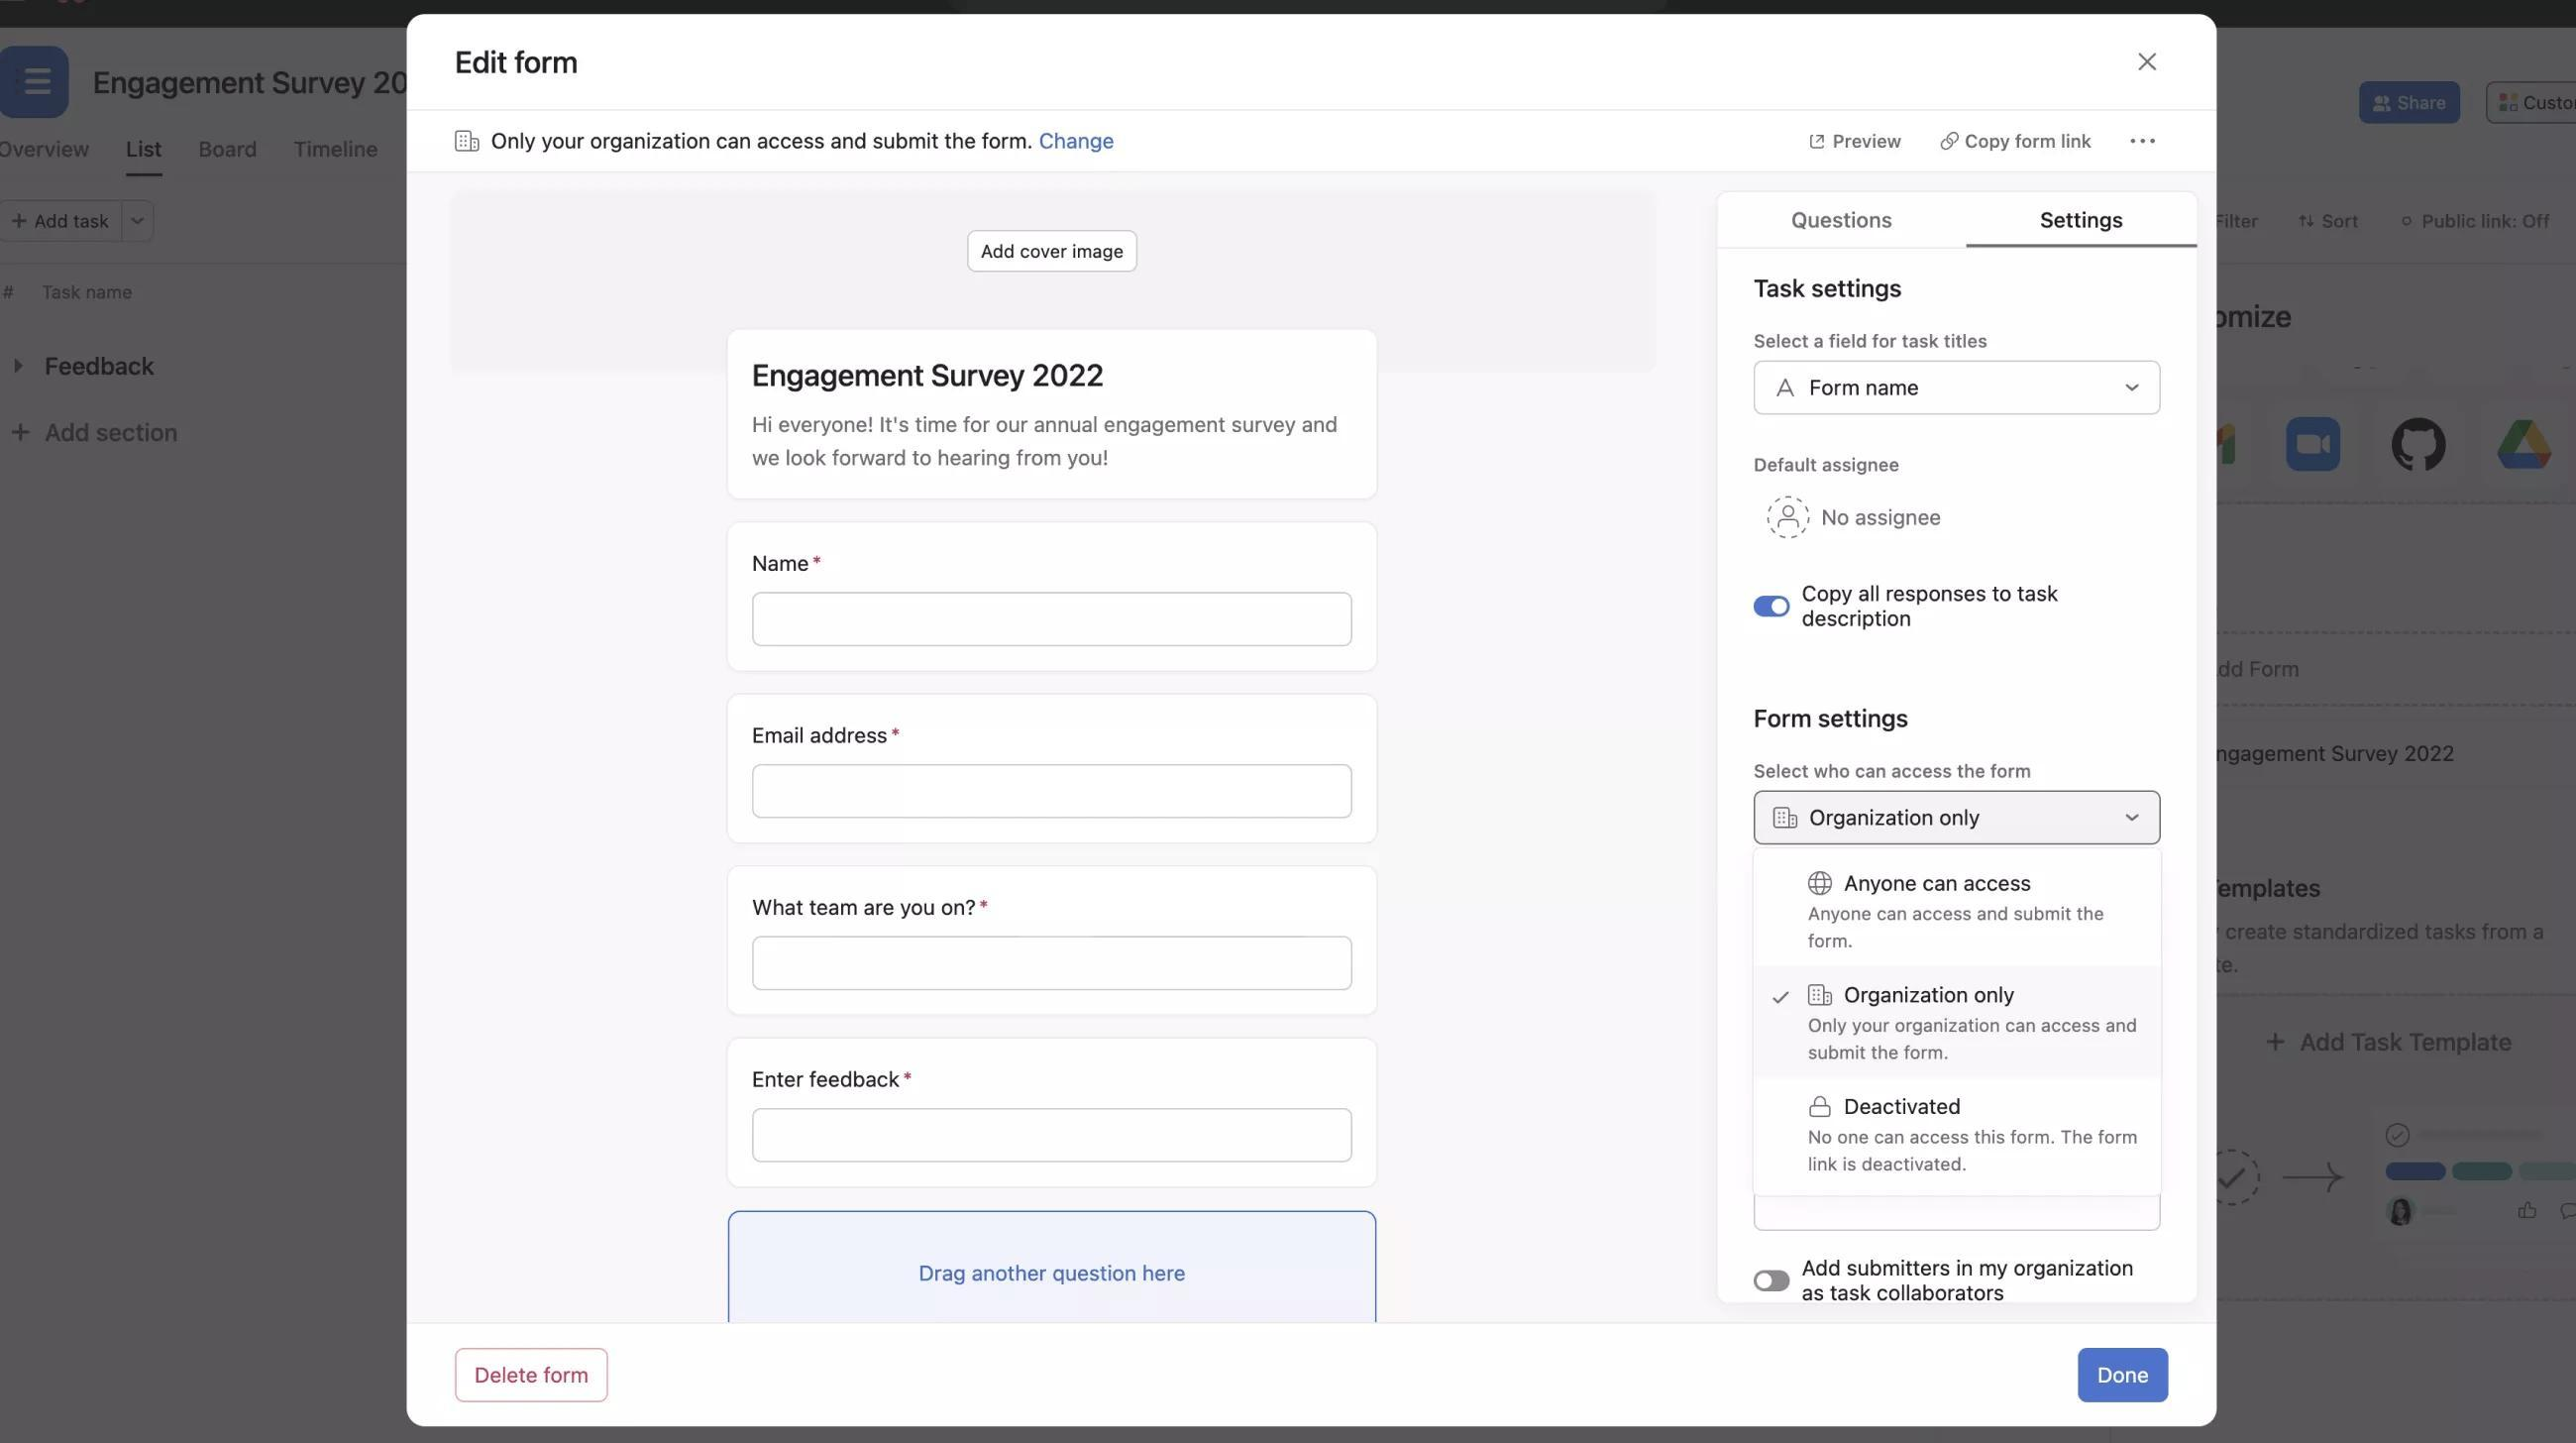button: (451, 1339, 614, 1409), (964, 228, 1143, 274), (2077, 1346, 2173, 1404), (2357, 80, 2466, 126)
dropdown: (1752, 358, 2166, 418), (1752, 790, 2166, 848)
icon: (1766, 490, 1812, 540), (1803, 866, 1836, 899), (1808, 1092, 1842, 1121), (1806, 981, 1838, 1007), (1767, 984, 1794, 1013)
input: (750, 933, 1355, 997), (748, 1105, 1357, 1167), (750, 761, 1357, 823), (750, 590, 1355, 650)
label: (748, 413, 1345, 471), (1799, 1250, 2143, 1305), (1808, 1018, 2139, 1064), (1805, 903, 2104, 953), (1808, 1130, 2139, 1174), (745, 358, 1116, 397), (1794, 579, 2063, 632), (748, 896, 993, 921), (1750, 761, 2035, 783), (442, 42, 587, 81), (1845, 869, 2042, 898), (1750, 271, 1905, 303), (1752, 333, 1992, 352), (750, 722, 904, 752), (1845, 981, 2019, 1007), (1746, 451, 1905, 480), (748, 1068, 920, 1092), (1753, 706, 1905, 733), (1819, 501, 1951, 531), (1964, 129, 2098, 156), (1845, 1098, 1967, 1121), (2031, 207, 2132, 234), (1783, 211, 1897, 234), (747, 549, 828, 577), (1831, 129, 1907, 156)
switch: (1755, 597, 1792, 618), (1755, 1271, 1792, 1293)
